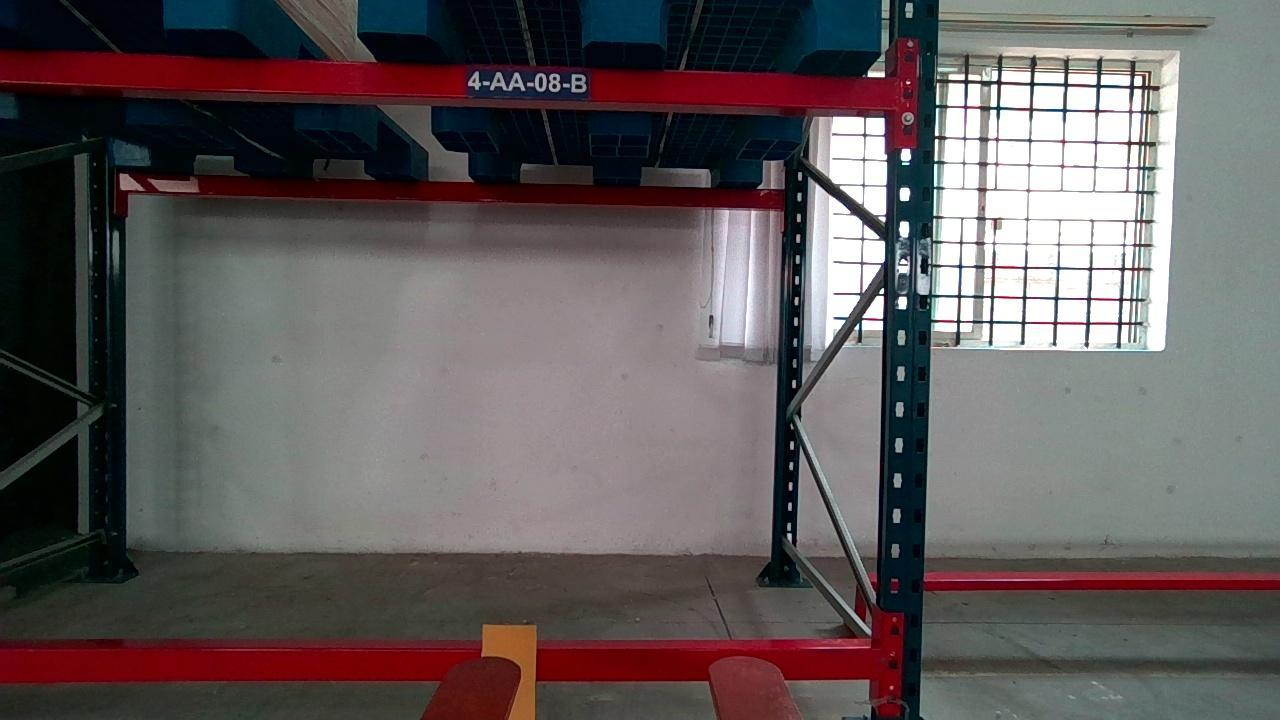h_rack: (1, 48, 898, 109)
orange_strip: (481, 622, 535, 720)
